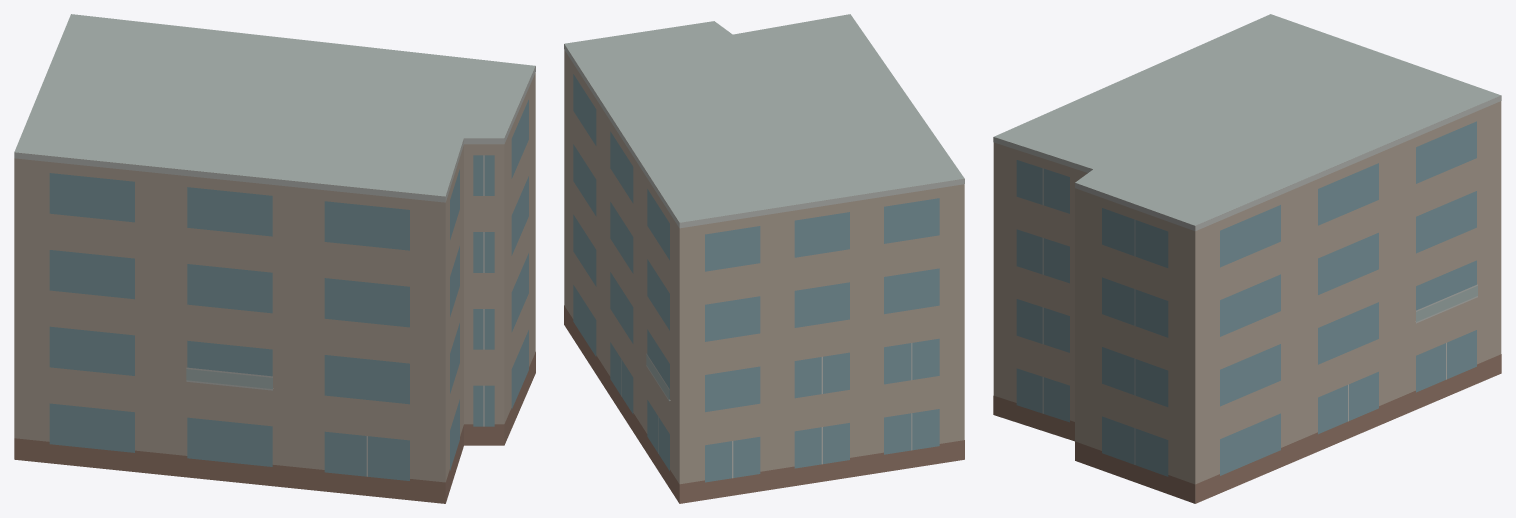
Rendered from survey-upis-32656803.glb.
3 renders of one model, left to right at view 1: azimuth 30°, elevation 25°; view 2: azimuth 150°, elevation 25°; view 3: azimuth 270°, elevation 25°, orthographic. The views are drawn at different scales.
Parts seen in each view (by area): view 1: survey-upis-32656803.tmp; view 2: survey-upis-32656803.tmp; view 3: survey-upis-32656803.tmp.
Boxes of the visible parts, bbox=[...] form: survey-upis-32656803.tmp: bbox=[14, 14, 535, 503]; survey-upis-32656803.tmp: bbox=[564, 14, 964, 503]; survey-upis-32656803.tmp: bbox=[993, 14, 1501, 503].
Bounding box in the file's own units: 20.27 × 12.4 × 20.54.
